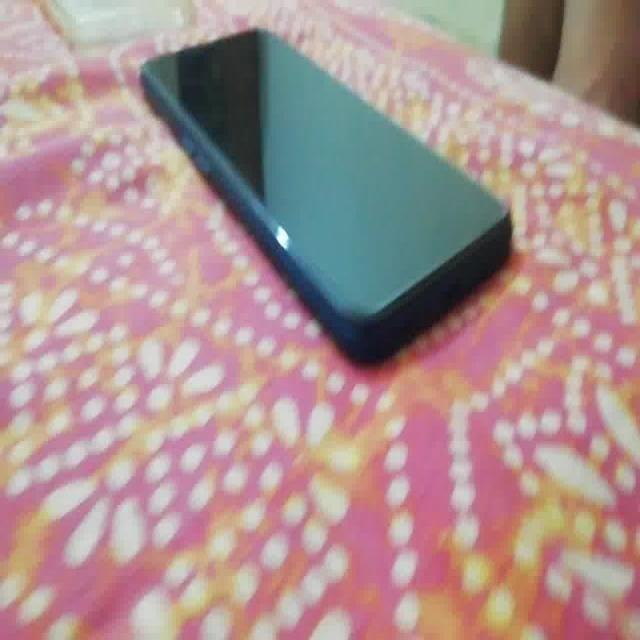Phone: (137, 21, 520, 382)
